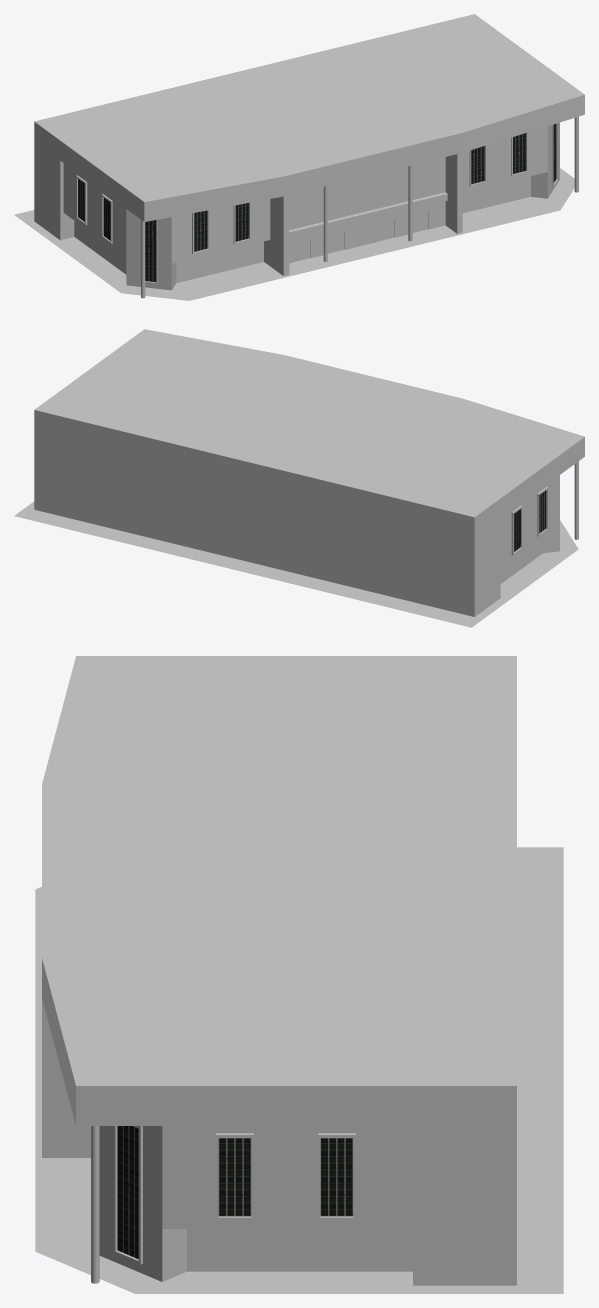
3 views of the same model, one above another, from view 1: azimuth 30°, elevation 25°; view 2: azimuth 150°, elevation 25°; view 3: azimuth 270°, elevation 25° (orthographic). The views are drawn at different scales.
Parts seen in each view (by area): view 1: DC-19; view 2: DC-19; view 3: DC-19.
Boxes of the visible parts, x1,y1,x2,y2 form: DC-19: (14,14,584,300); DC-19: (14,329,584,627); DC-19: (35,656,563,1293).
Size of what is drawn, in the model's own units: 72 by 15 by 36.
